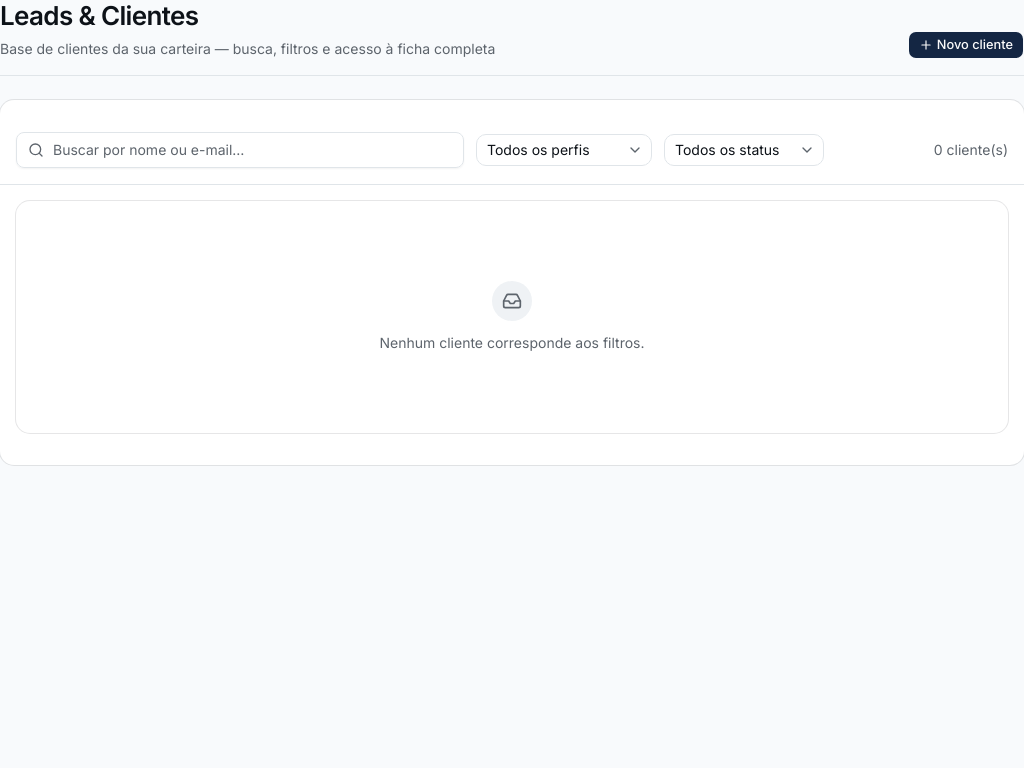
Cadastro de cliente › CPF já cadastrado aparece no próprio campo
Click the button "Novo cliente". click: [966, 44]
box: top-left (908, 30), bottom-right (1023, 58)
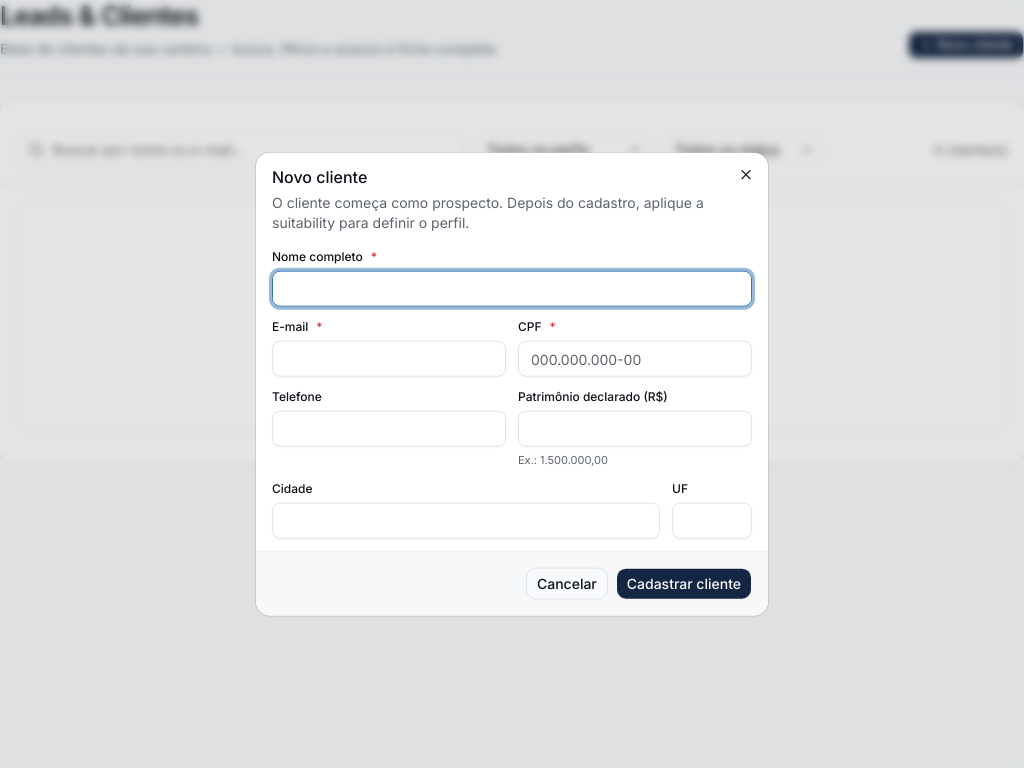
Type "Diana Nova" into the field labelled "Nome completo *". click: [512, 289]
box: top-left (272, 271), bottom-right (752, 307)
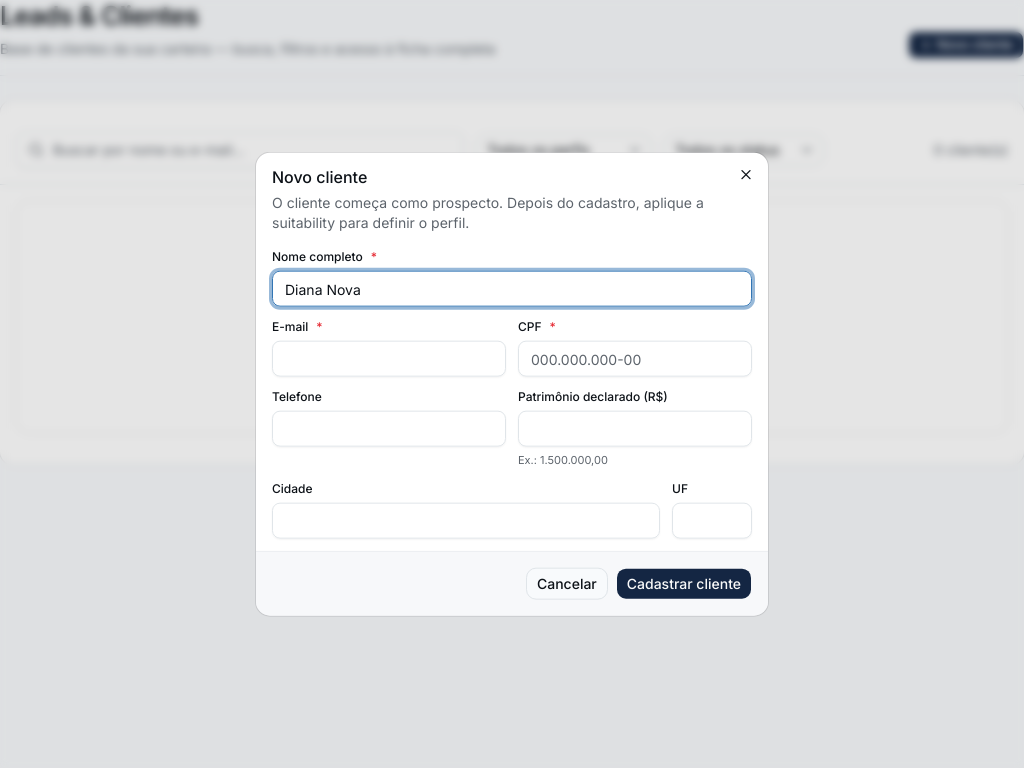
Type "diana@x.com" into the field labelled "E-mail *". click: [389, 359]
box: top-left (272, 341), bottom-right (506, 377)
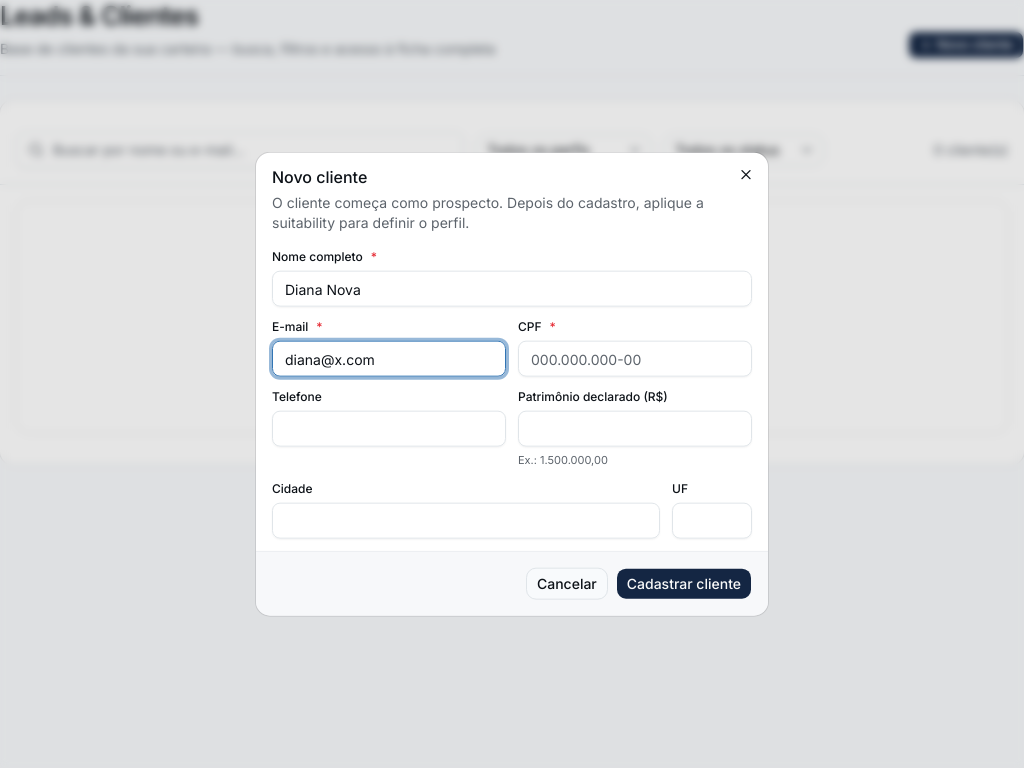
Type "52998224725" into the field labelled "CPF *". click: [635, 359]
box: top-left (518, 341), bottom-right (752, 377)
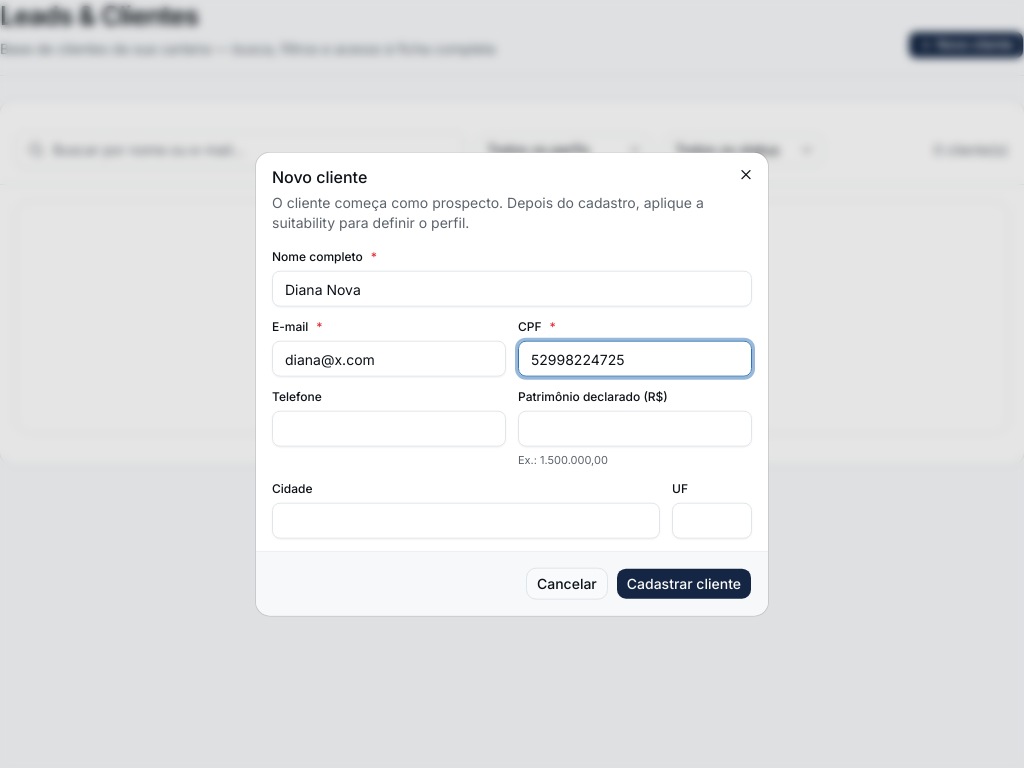
Click the button "Cadastrar cliente". click: [684, 583]
box: top-left (616, 567), bottom-right (752, 599)
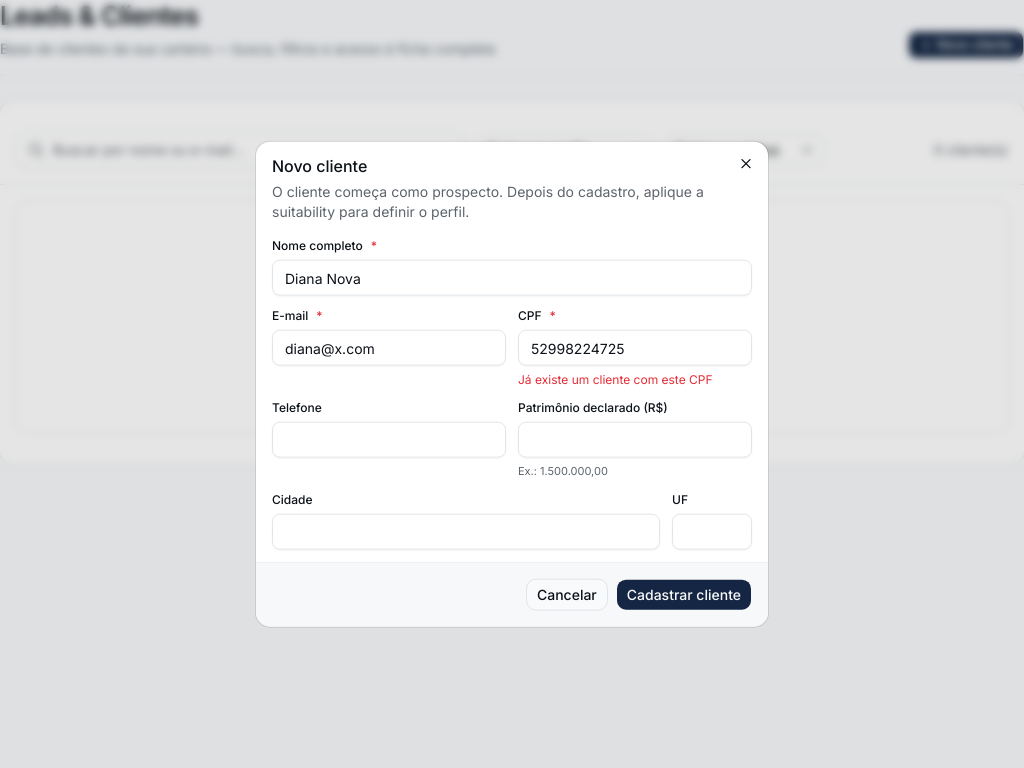
Now the text "Já existe um cliente com este CPF" is shown, box top-left (518, 372), bottom-right (712, 387)
